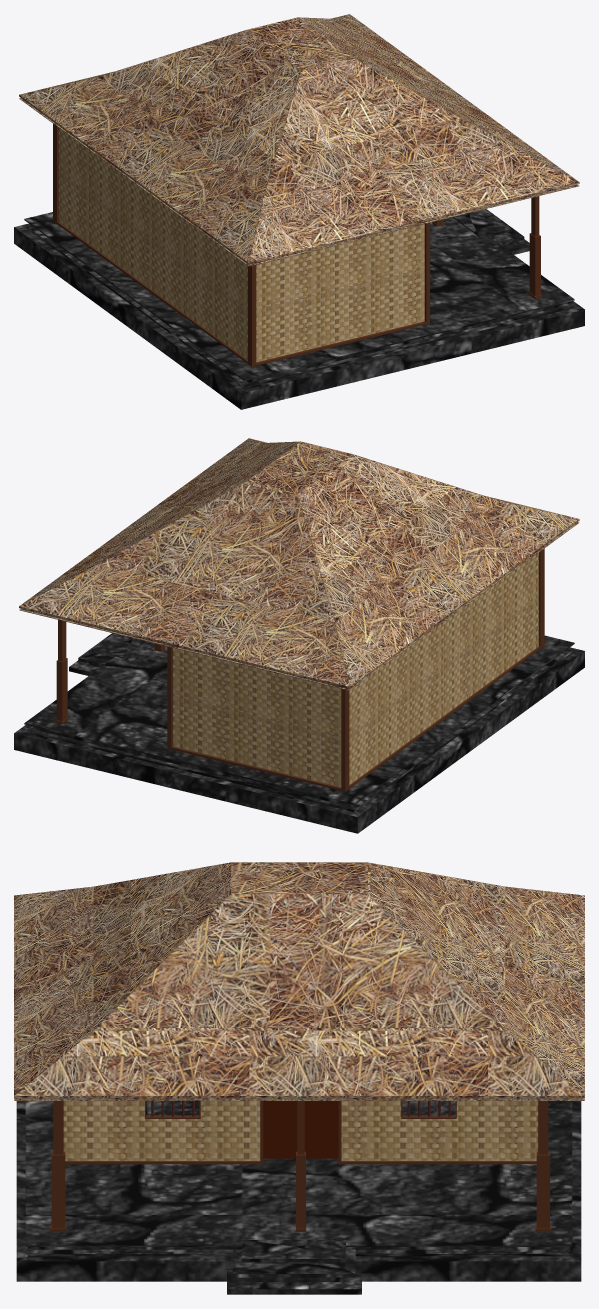
Rendered from Bangunan Bale Dauh.fbx.
3 renders of one model, top to bottom at view 1: azimuth 30°, elevation 25°; view 2: azimuth 150°, elevation 25°; view 3: azimuth 270°, elevation 25°, orthographic. The views are drawn at different scales.
Parts seen in each view (by area): view 1: Atap Bale Dauh, Dinding Bale Dauh, Pondasi Bale Dauh, Tangga Bale Dauh; view 2: Atap Bale Dauh, Dinding Bale Dauh, Pondasi Bale Dauh, Tangga Bale Dauh; view 3: Atap Bale Dauh, Pondasi Bale Dauh, Dinding Bale Dauh, Tangga Bale Dauh, Pintu Bale Dauh.
Boxes of the visible parts, x1,y1,x2,y2 form: Atap Bale Dauh: [19, 14, 579, 266]; Dinding Bale Dauh: [53, 124, 541, 366]; Pondasi Bale Dauh: [14, 212, 584, 409]; Tangga Bale Dauh: [452, 209, 529, 254]; Atap Bale Dauh: [19, 438, 579, 690]; Dinding Bale Dauh: [55, 548, 544, 791]; Pondasi Bale Dauh: [14, 635, 584, 833]; Tangga Bale Dauh: [69, 633, 145, 675]; Atap Bale Dauh: [14, 862, 584, 1100]; Pondasi Bale Dauh: [16, 1101, 581, 1281]; Dinding Bale Dauh: [50, 1101, 551, 1231]; Tangga Bale Dauh: [227, 1240, 361, 1294]; Pintu Bale Dauh: [263, 1101, 338, 1158].
Bounding box in the file's own units: 14.59 × 8.9 × 15.4.
